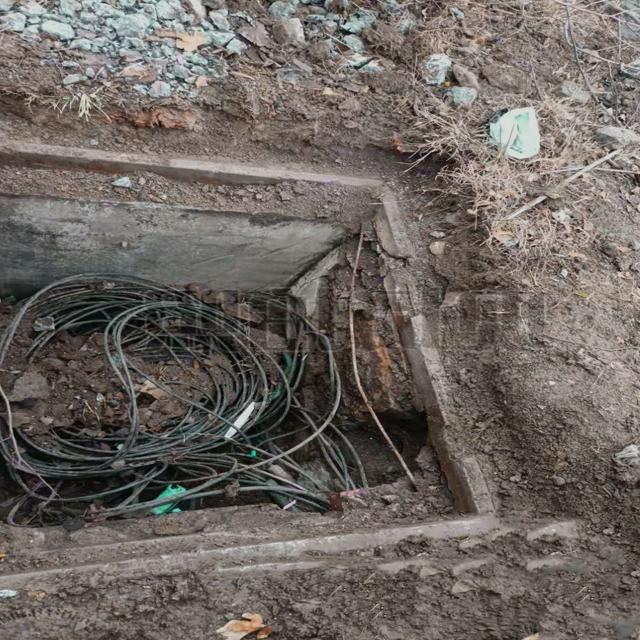lose: (0, 137, 513, 595)
